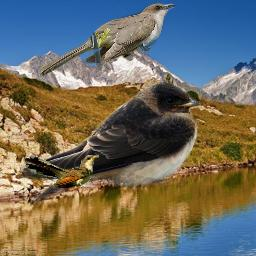Cuckoo: (37, 2, 175, 76), (23, 155, 99, 189)
Swallow: (20, 81, 201, 205)
